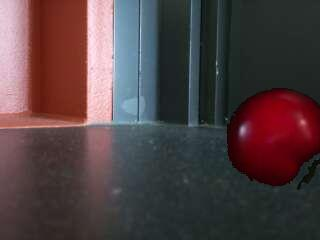Tomato: (225, 90, 320, 190)
